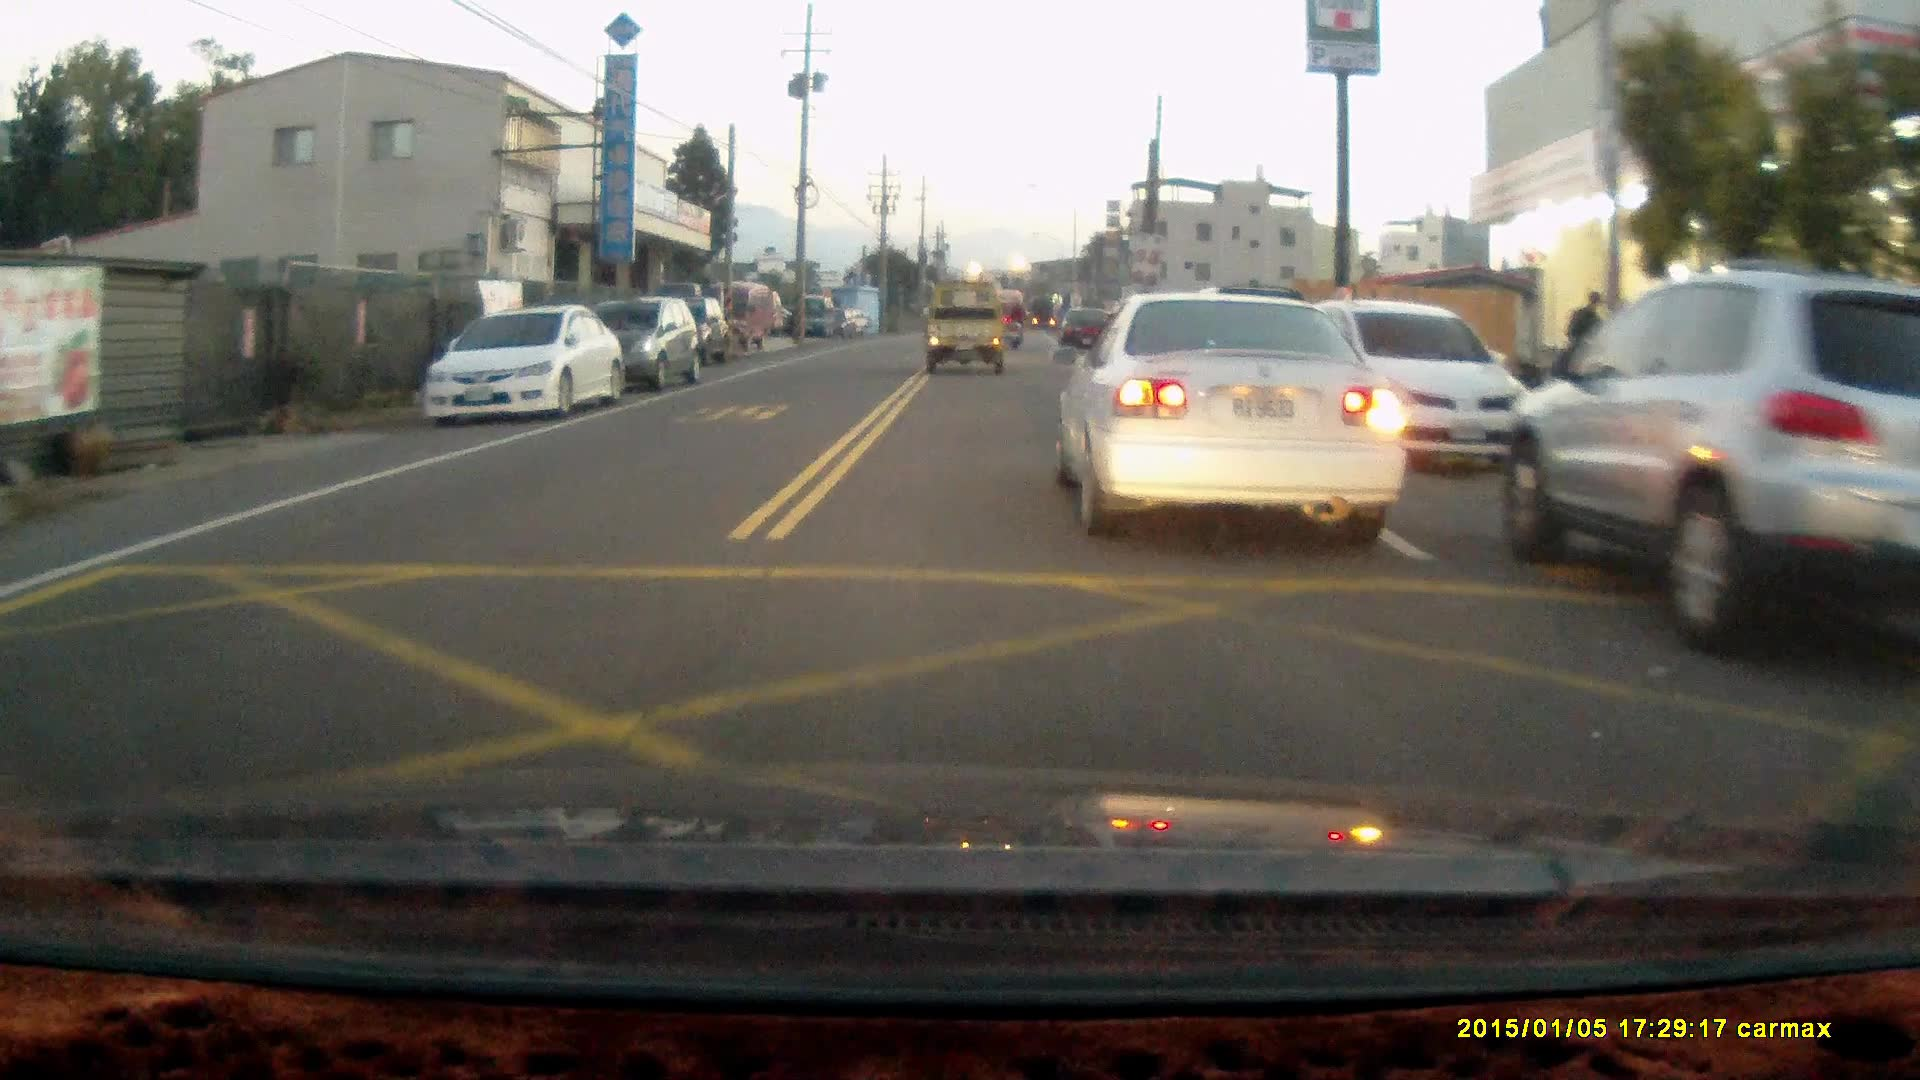pedestrian: (1561, 290, 1604, 395)
rider: (1001, 301, 1027, 349)
vehicle: (1504, 266, 1920, 682), (1063, 279, 1405, 527), (1279, 288, 1530, 469), (424, 292, 626, 420), (574, 292, 706, 390), (630, 277, 736, 362), (927, 271, 1014, 368), (716, 278, 778, 349), (1056, 305, 1119, 356)
